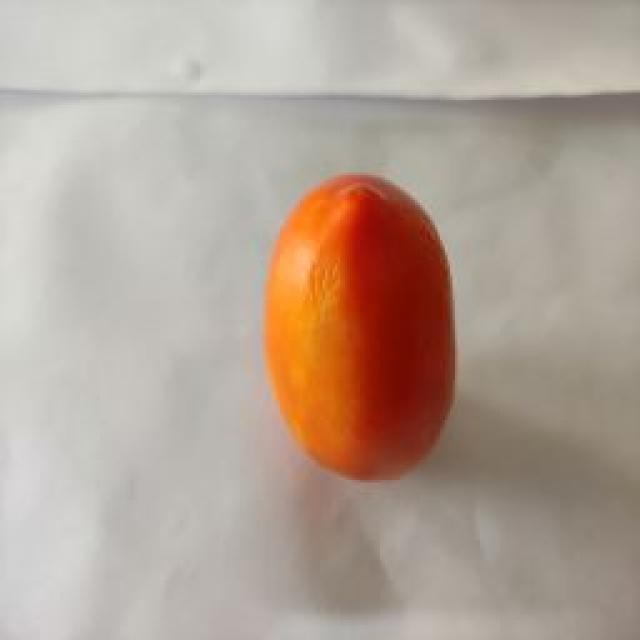tomato: (265, 174, 457, 479)
